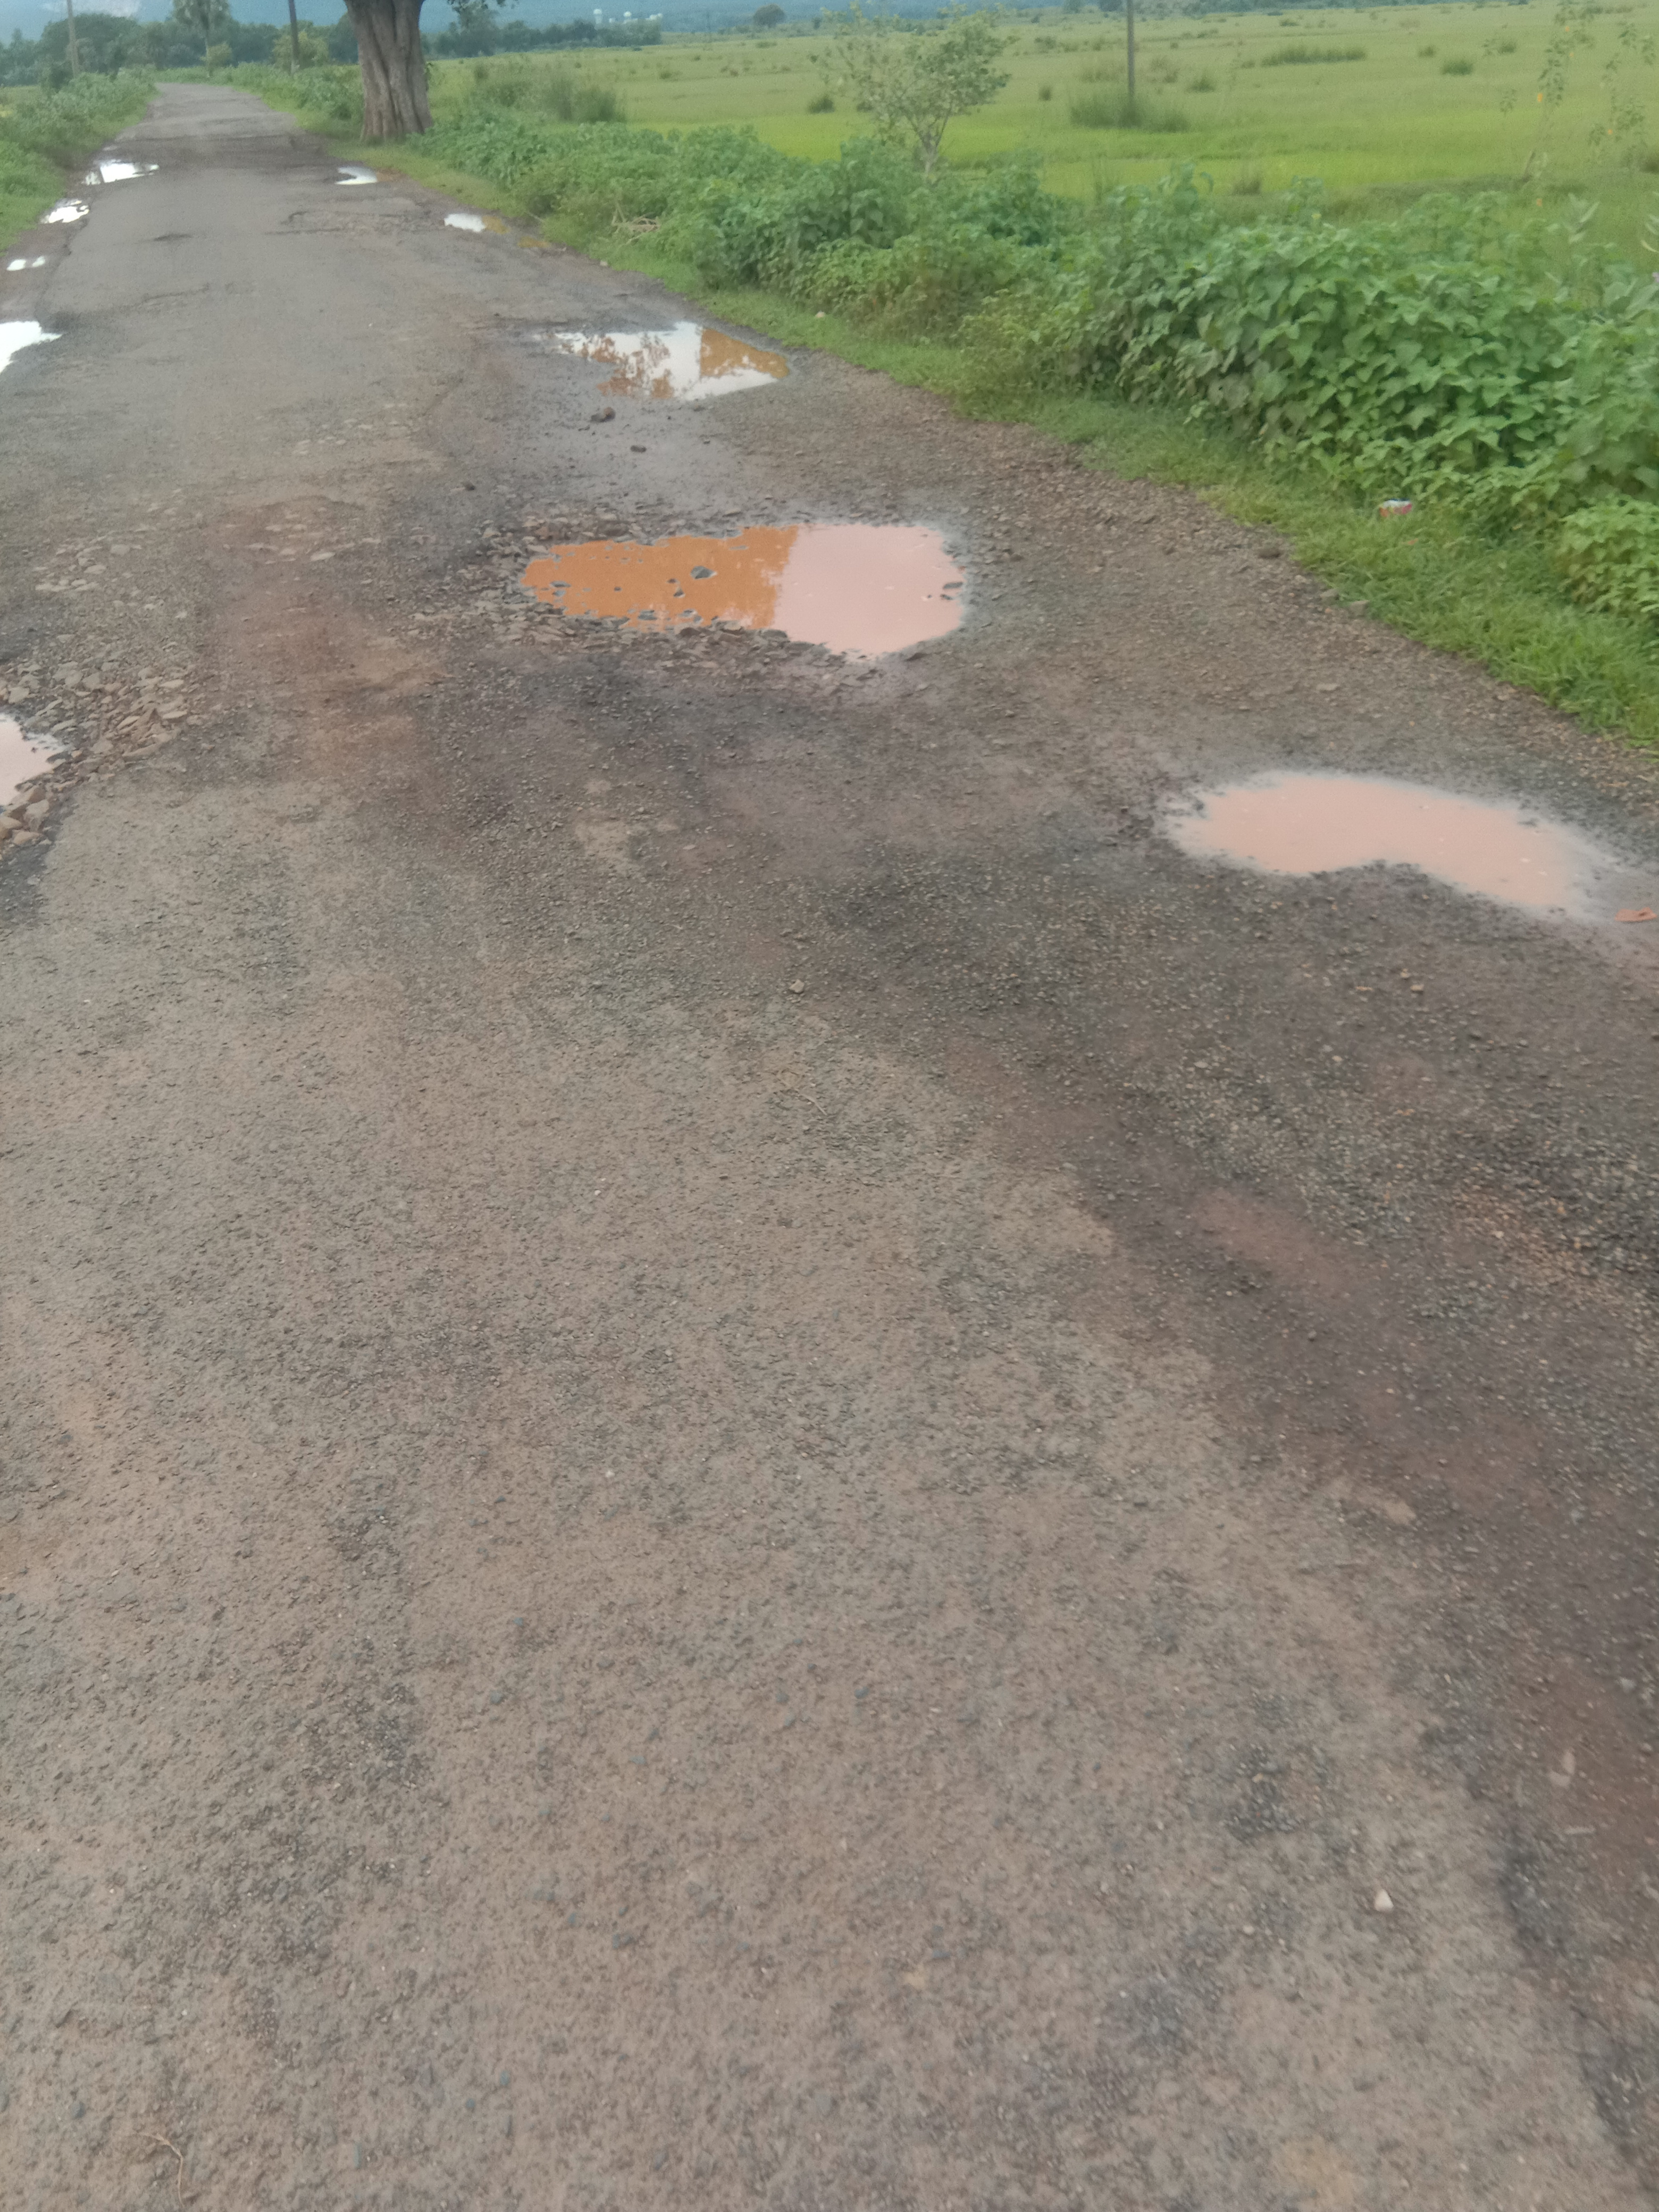potholes: (484, 495, 990, 686), (1140, 754, 1659, 941), (509, 314, 810, 413), (0, 672, 115, 892), (416, 197, 491, 272), (0, 300, 70, 374), (73, 143, 166, 186), (0, 239, 59, 300), (16, 197, 91, 235), (342, 148, 378, 204)
